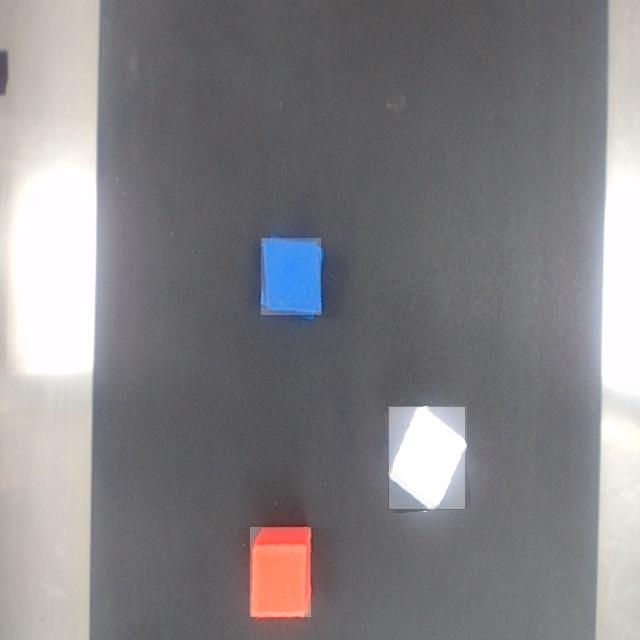Azul: (261, 239, 321, 315)
Blanco: (389, 407, 465, 509)
Rojo: (251, 528, 311, 617)
